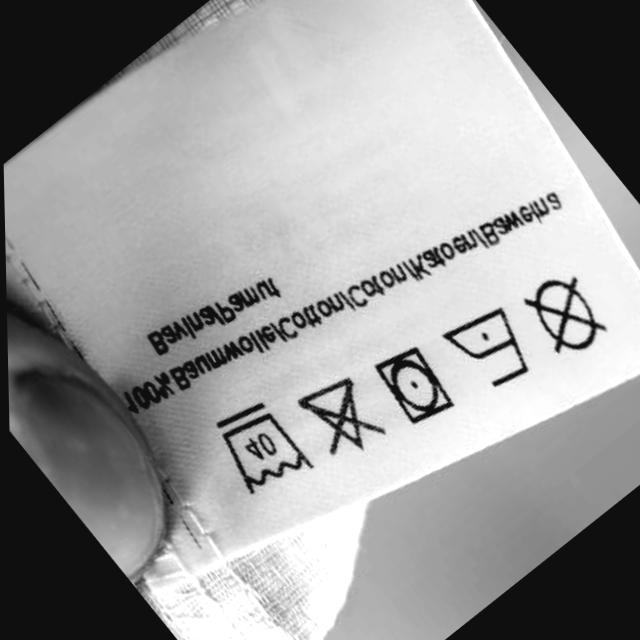40C: (219, 399, 304, 500)
DN_bleach: (308, 372, 372, 458)
DN_dry_clean: (531, 271, 606, 360)
iron_low: (442, 302, 527, 396)
tumble_dry_low: (378, 340, 454, 427)
